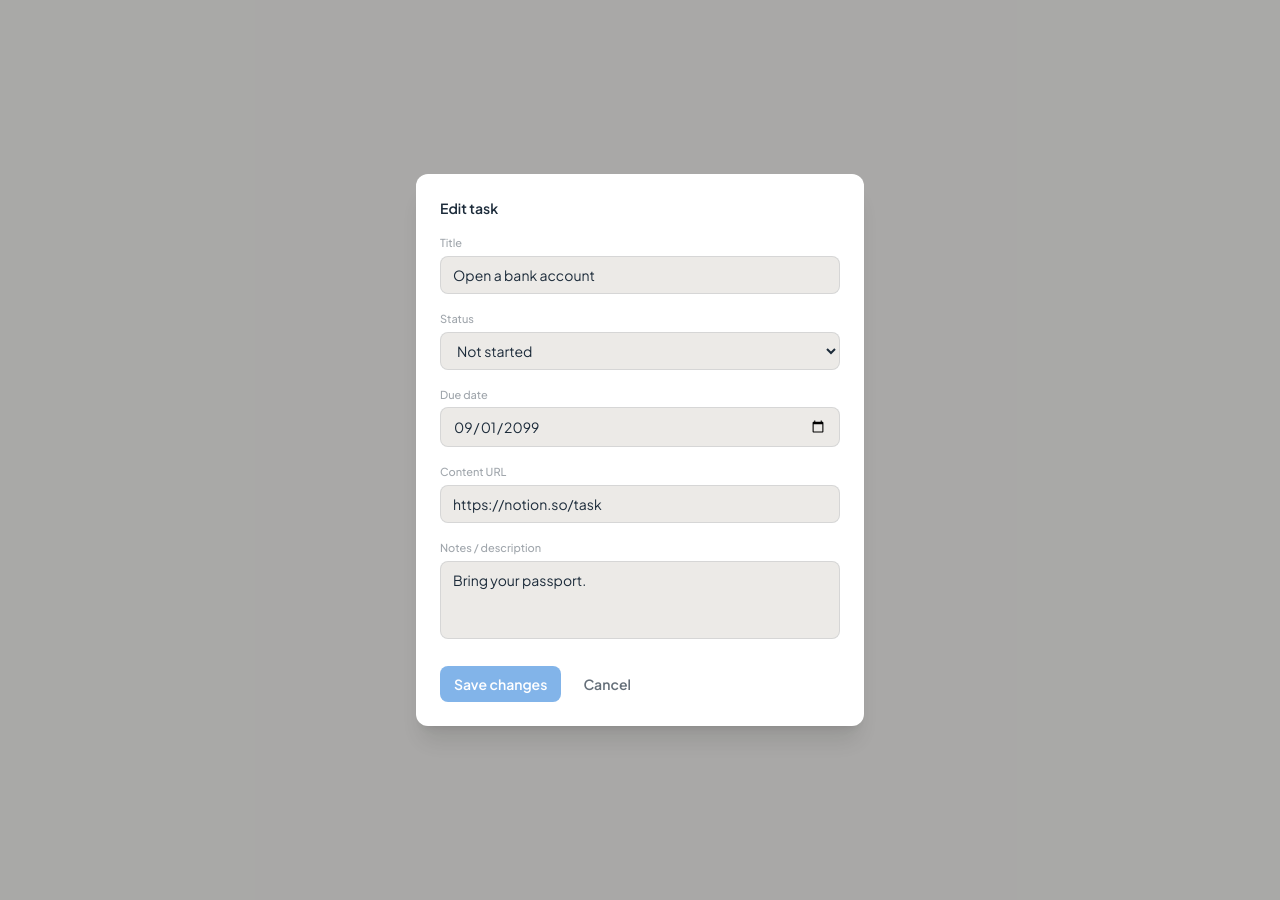
Test case: PlanTaskEditModal › shows an error message when adminUpdatePlanTask fails
Replace the text in the field labelled "Title" with "Changed": (640, 275) left=440, top=256, right=840, bottom=294
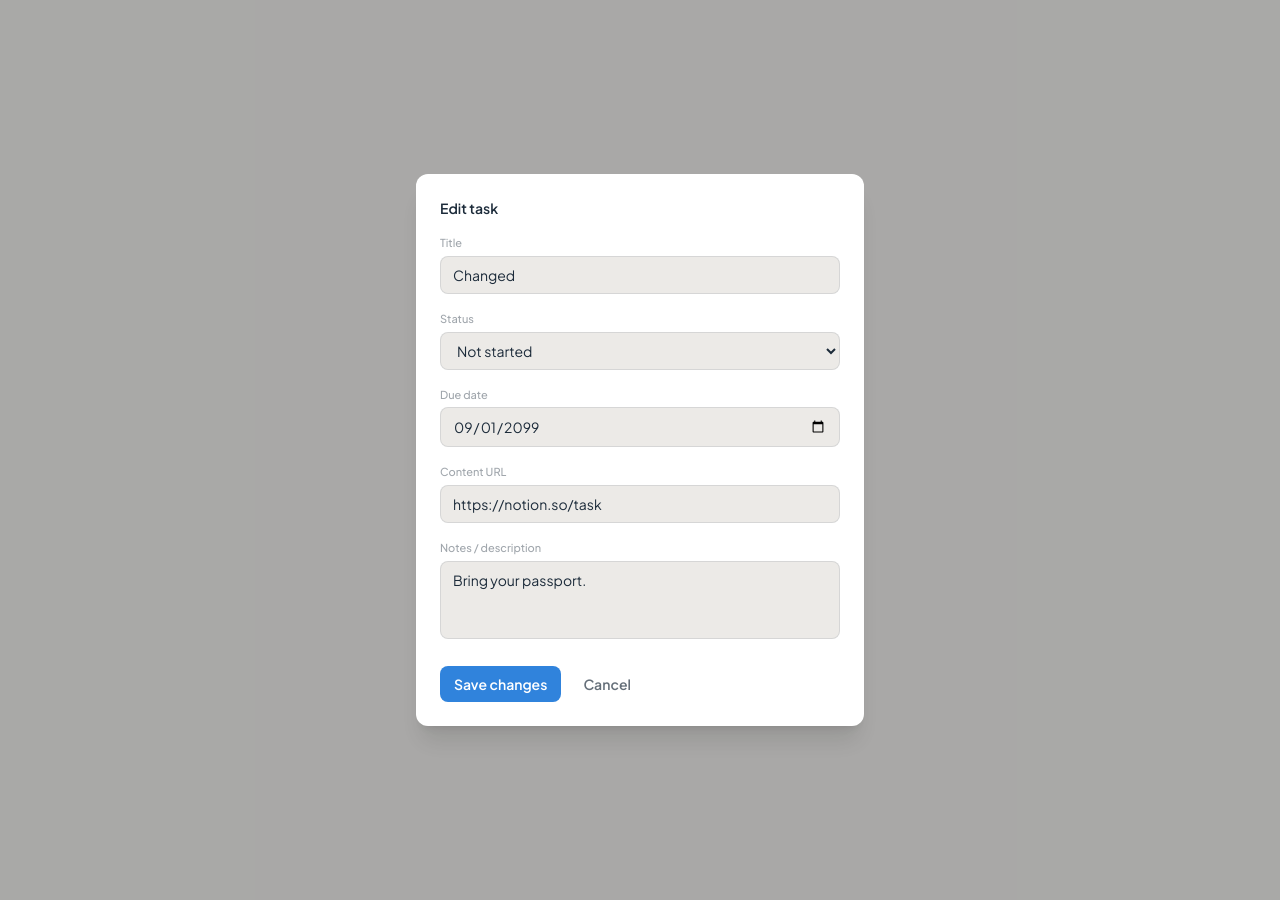
Click the button "Save changes": (501, 684) left=440, top=666, right=561, bottom=702
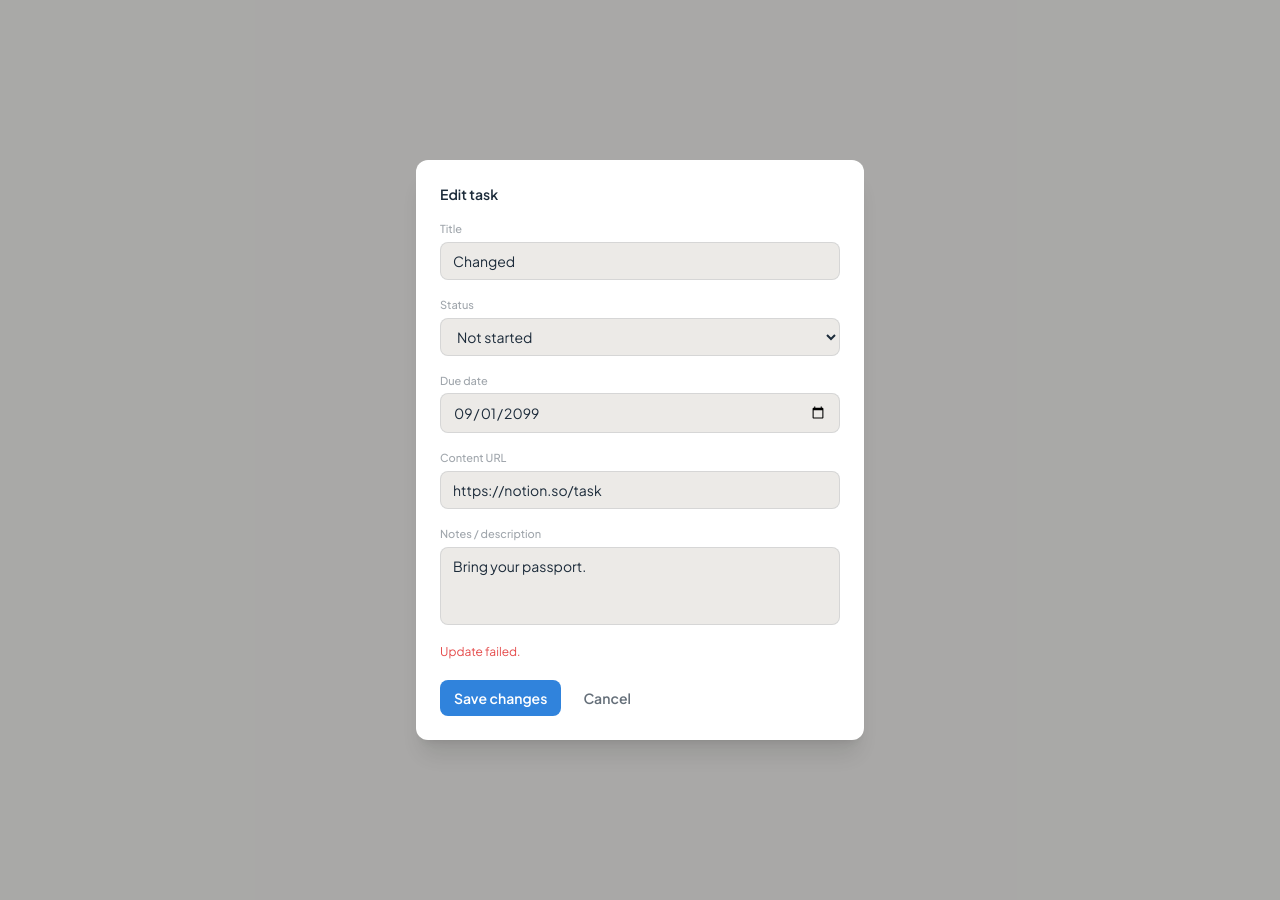
Result: the text "Update failed." is shown at left=440, top=644, right=520, bottom=659
